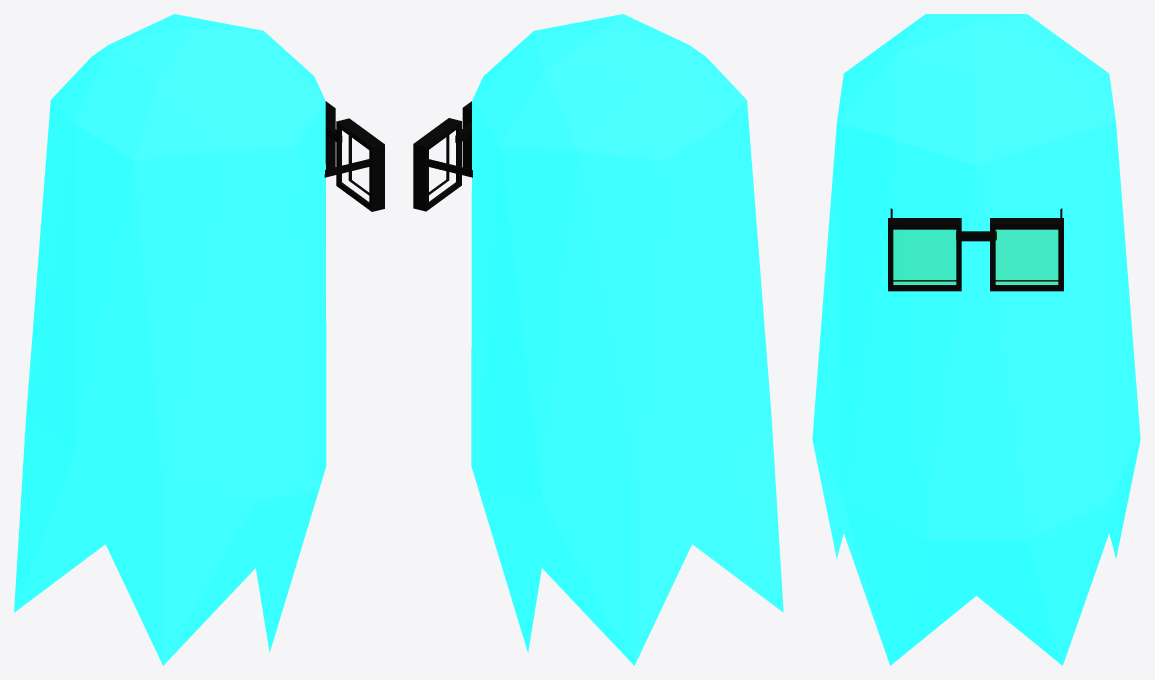
File: limbo_pass.gltf
3 renders of one model, left to right at view 1: azimuth 30°, elevation 25°; view 2: azimuth 150°, elevation 25°; view 3: azimuth 270°, elevation 25°, orthographic. The views are drawn at different scales.
Visible parts, largest first — view 1: FORM; view 2: FORM; view 3: FORM.
Boxes of the visible parts, x1,y1,x2,y2 form: FORM: (14, 14, 384, 665); FORM: (413, 14, 783, 665); FORM: (812, 14, 1140, 665).
Bounding box in the file's own units: 2.43 × 4.28 × 2.03.
